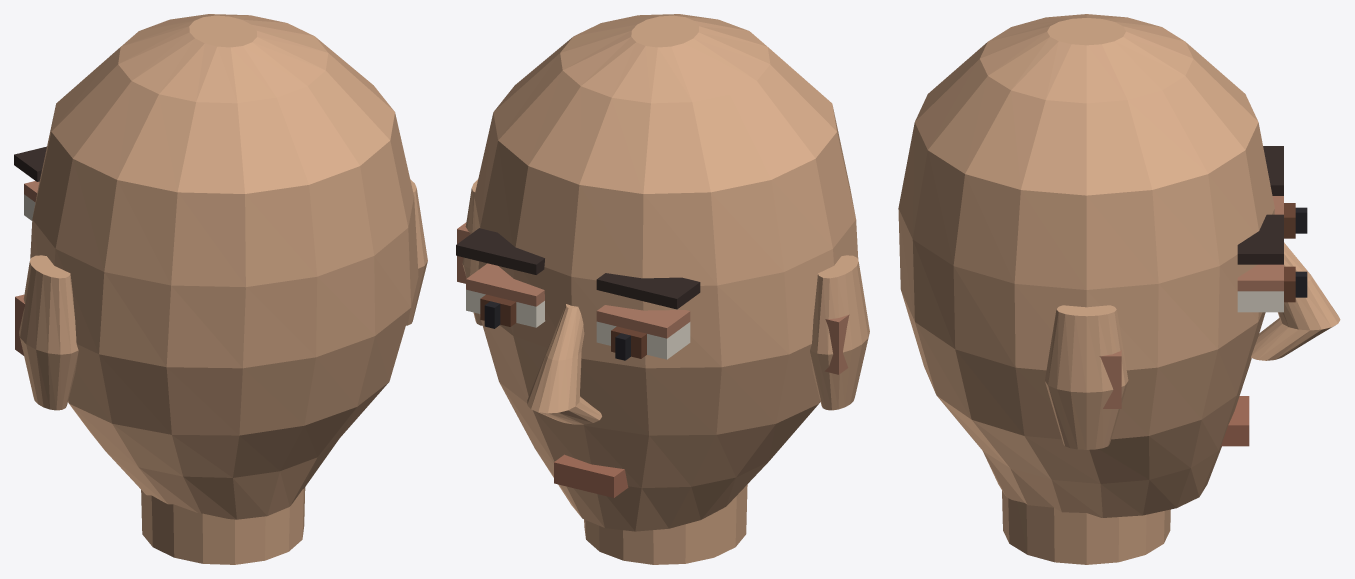
The picture shows the model from 3 angles, left to right: view 1: azimuth 30°, elevation 25°; view 2: azimuth 150°, elevation 25°; view 3: azimuth 270°, elevation 25°; orthographic projection.
Parts seen in each view (by area): view 1: CHAR-068; view 2: CHAR-068; view 3: CHAR-068.
Boxes of the visible parts, x1,y1,x2,y2 form: CHAR-068: (14,14,427,564); CHAR-068: (456,14,869,564); CHAR-068: (898,14,1340,564).
Bounding box in the file's own units: 0.196 × 0.237 × 0.1903.
7 materials, 7 textured.
